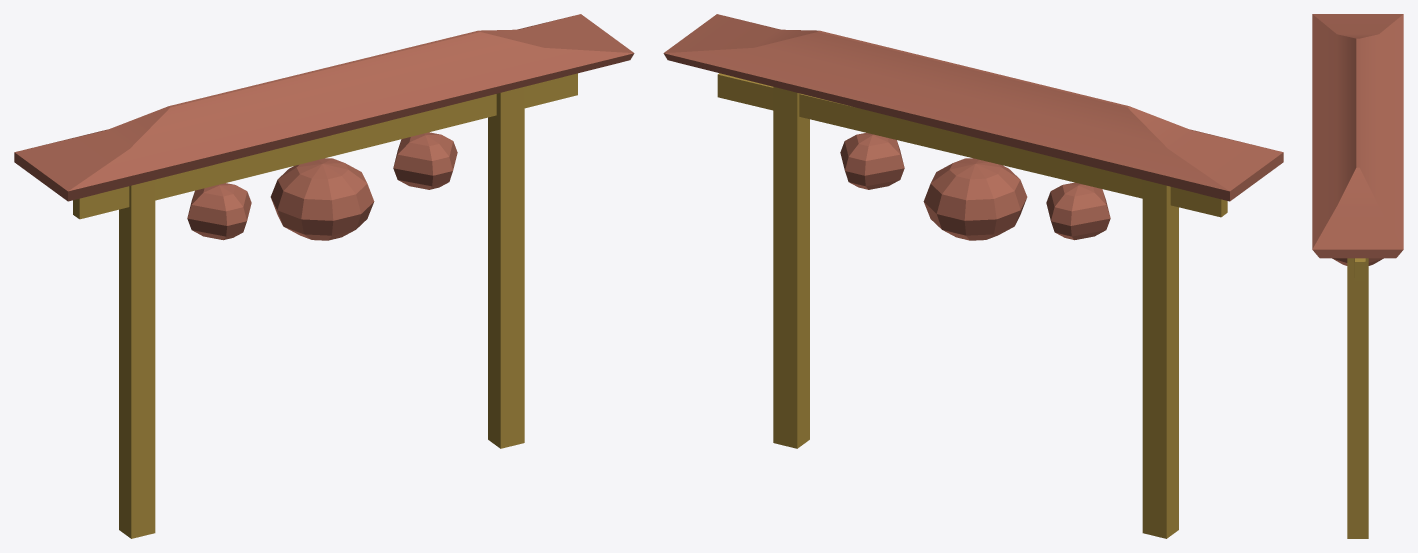
Rendered from Finish.fbx.
3 views of the same model, side by side, from view 1: azimuth 30°, elevation 25°; view 2: azimuth 150°, elevation 25°; view 3: azimuth 270°, elevation 25° (orthographic). The views are drawn at different scales.
Visible parts, largest first — view 1: finish; view 2: finish; view 3: finish.
Part boxes in pixels (box(x1,y1,x2,y2)): finish: box(14, 14, 634, 538); finish: box(663, 14, 1283, 538); finish: box(1312, 14, 1403, 538).
Size of the model in its own units: 41.78 by 29.36 by 6.85.
